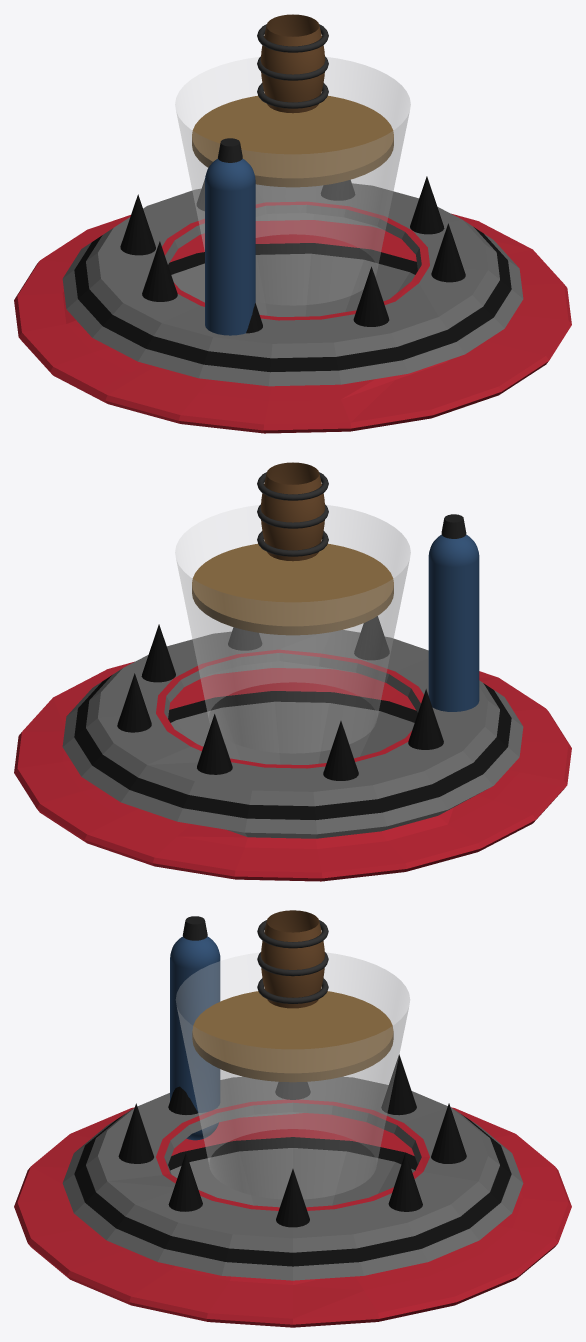
Rendered from glm53_t05.glb.
3 renders of one model, top to bottom at view 1: azimuth 30°, elevation 25°; view 2: azimuth 150°, elevation 25°; view 3: azimuth 270°, elevation 25°, orthographic.
Parts seen in each view (by area): view 1: slot_anchor_saucer, cover_cylinder, brown_disc, cyl_body, barrel_body, barrel_hoop_1.13, barrel_hoop_0.91, barrel_hoop_1.02, cyl_neck; view 2: slot_anchor_saucer, cover_cylinder, brown_disc, cyl_body, barrel_body, barrel_hoop_1.13, barrel_hoop_0.91, barrel_hoop_1.02, cyl_neck; view 3: slot_anchor_saucer, cover_cylinder, brown_disc, cyl_body, barrel_body, barrel_hoop_1.13, barrel_hoop_0.91, barrel_hoop_1.02, cyl_neck.
Boxes of the visible parts, box(x1,y1,x2,y2) form: slot_anchor_saucer: box(14, 176, 571, 433); cover_cylinder: box(175, 57, 410, 305); brown_disc: box(192, 95, 393, 187); cyl_body: box(205, 159, 255, 335); barrel_body: box(260, 14, 325, 113); barrel_hoop_1.13: box(257, 24, 328, 52); barrel_hoop_0.91: box(257, 83, 328, 108); barrel_hoop_1.02: box(257, 56, 328, 80); cyl_neck: box(218, 138, 242, 162); slot_anchor_saucer: box(14, 616, 571, 881); cover_cylinder: box(175, 505, 410, 753); brown_disc: box(192, 543, 393, 635); cyl_body: box(428, 535, 479, 711); barrel_body: box(260, 462, 325, 561); barrel_hoop_1.13: box(257, 472, 328, 500); barrel_hoop_0.91: box(257, 531, 328, 556); barrel_hoop_1.02: box(257, 504, 328, 528); cyl_neck: box(441, 514, 466, 538); slot_anchor_saucer: box(14, 1054, 571, 1327); cover_cylinder: box(176, 952, 409, 1198); brown_disc: box(192, 991, 393, 1082); cyl_body: box(170, 936, 220, 1140); barrel_body: box(261, 910, 324, 1008); barrel_hoop_1.13: box(257, 920, 328, 948); barrel_hoop_0.91: box(257, 978, 328, 1003); barrel_hoop_1.02: box(257, 952, 328, 976); cyl_neck: box(182, 916, 207, 940).
Bounding box in the file's own units: 2 × 1.47 × 2.
Materials: 7 (1 with a texture image).
